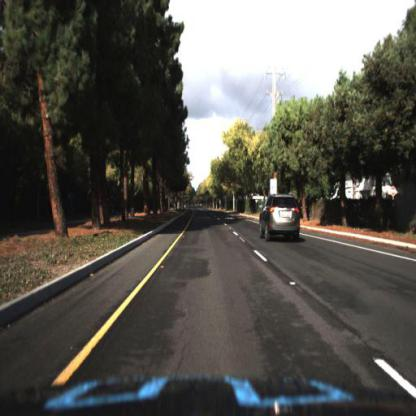car: (260, 194, 303, 243)
